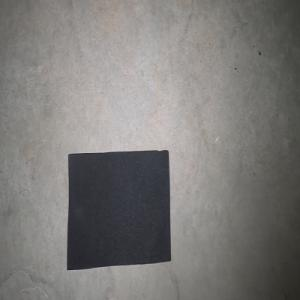PaintChip: (66, 150, 171, 270)
